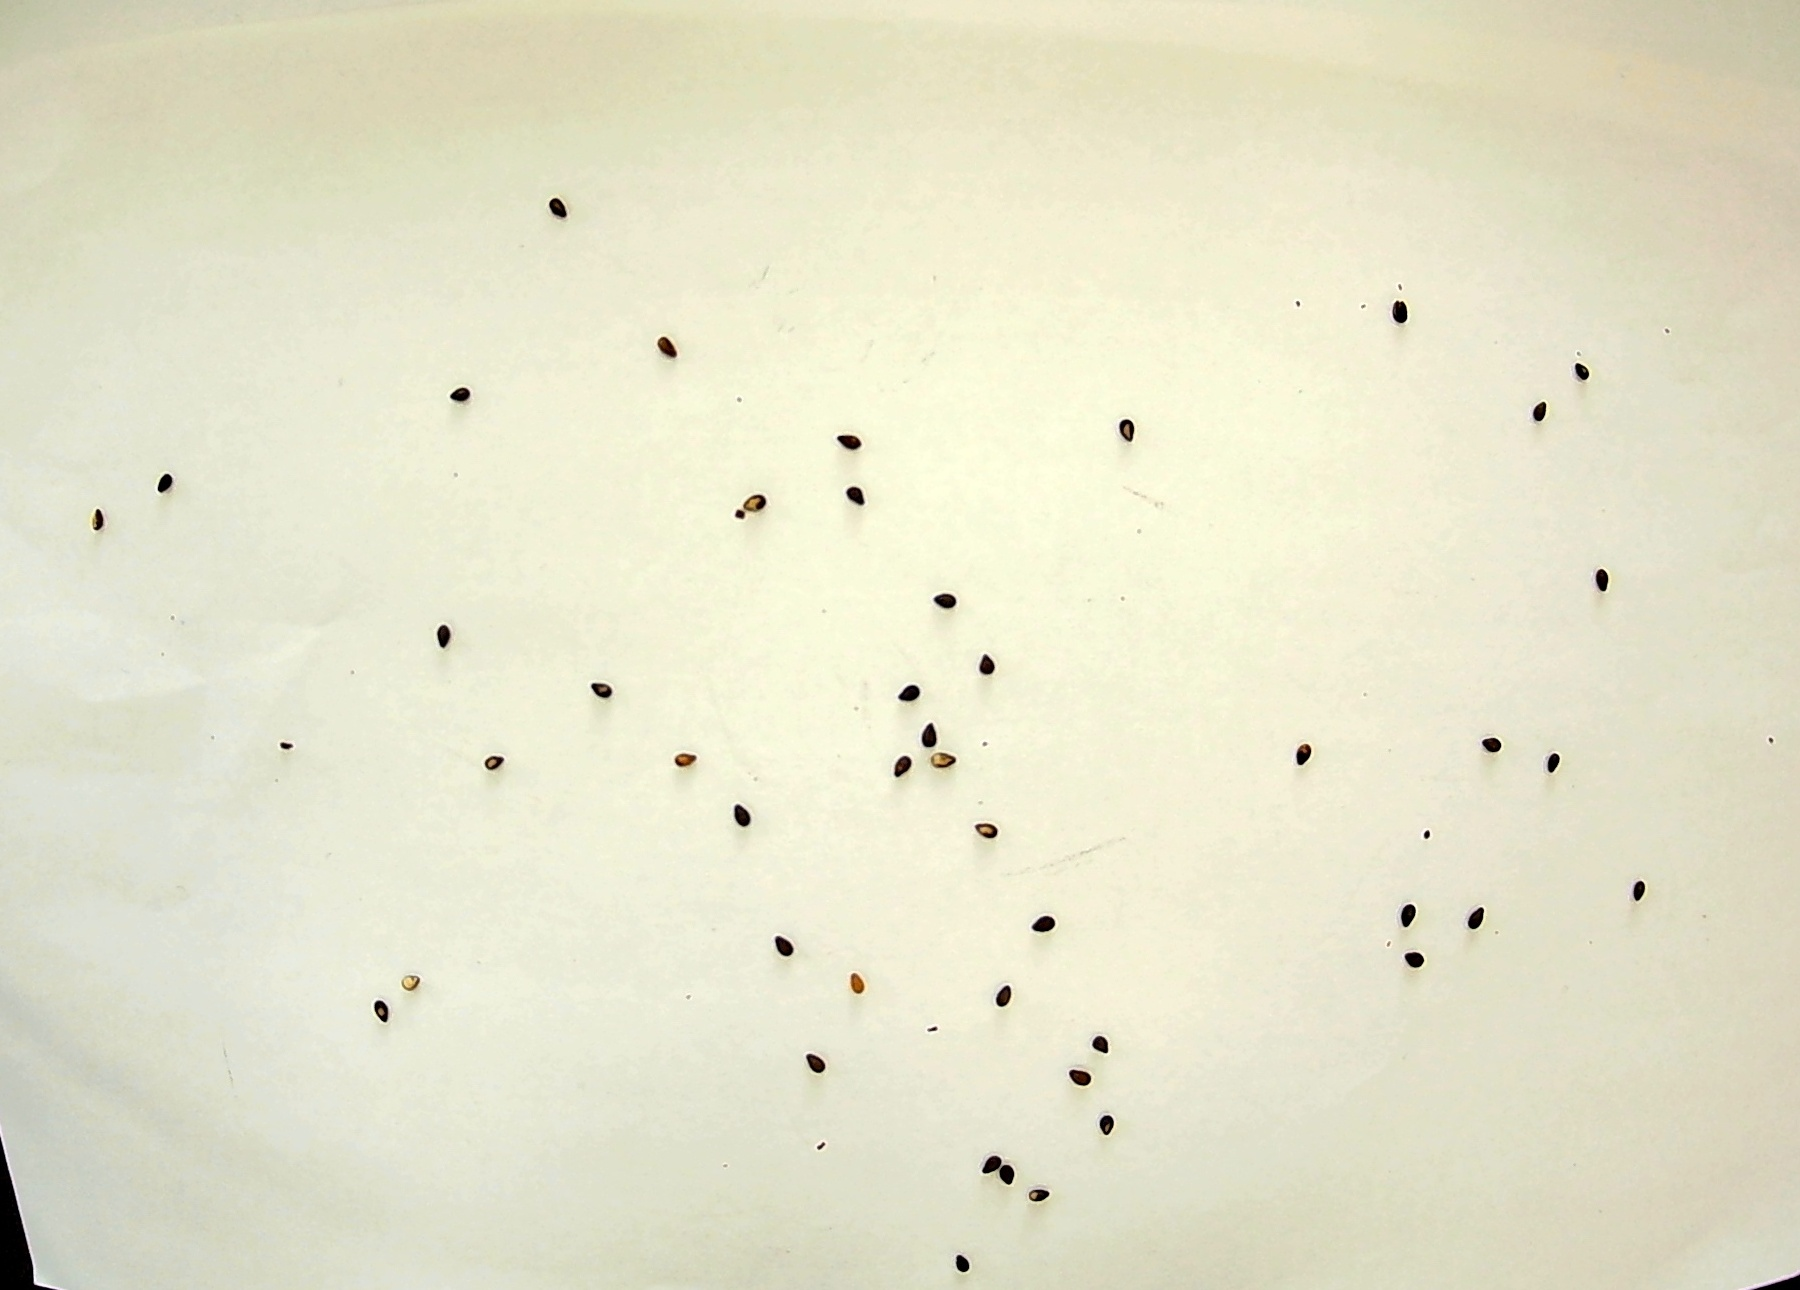sesami: (440, 371, 474, 408), (147, 462, 181, 498), (968, 645, 1003, 681), (1102, 408, 1137, 444), (1388, 283, 1423, 320), (1524, 396, 1559, 433), (1621, 873, 1656, 909), (1388, 900, 1423, 937), (973, 808, 1007, 845), (1088, 1106, 1123, 1142), (970, 1136, 1005, 1173), (772, 927, 807, 963), (580, 666, 615, 702), (400, 965, 435, 1001), (423, 616, 458, 651), (927, 584, 961, 618), (1300, 732, 1335, 766), (668, 739, 703, 773), (539, 184, 572, 221), (85, 504, 119, 540), (649, 329, 682, 366), (841, 477, 875, 514), (1581, 560, 1614, 596), (1473, 730, 1507, 766), (1532, 743, 1566, 779), (1458, 899, 1492, 935), (1401, 945, 1434, 981), (1024, 903, 1058, 940), (932, 741, 966, 778), (913, 712, 946, 748), (885, 741, 918, 778), (1093, 1028, 1126, 1064), (1065, 1058, 1098, 1095), (1020, 1176, 1053, 1212), (999, 1156, 1033, 1192), (800, 1041, 833, 1078), (846, 963, 879, 1000), (720, 794, 753, 831), (479, 747, 512, 783), (366, 1000, 399, 1036), (407, 963, 441, 1000), (741, 489, 774, 524), (832, 424, 865, 459), (1573, 343, 1606, 378), (978, 988, 1012, 1023), (893, 665, 927, 699), (950, 1243, 984, 1277)
